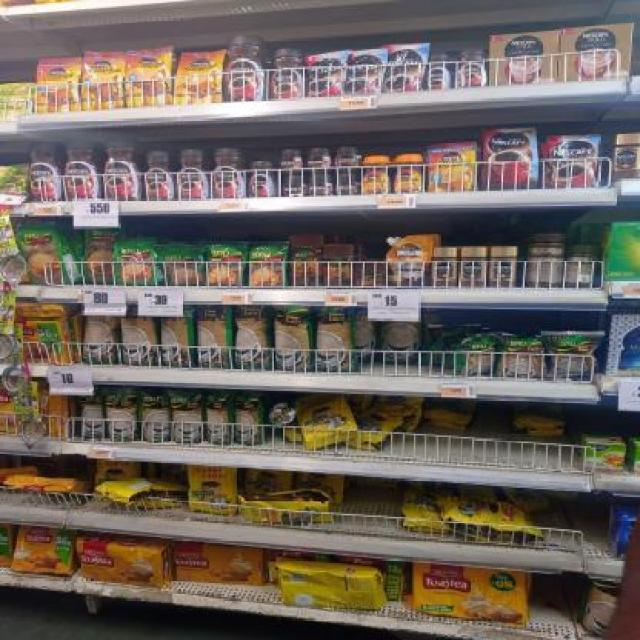Coffee: (486, 129, 537, 188), (544, 136, 594, 187), (175, 52, 222, 105), (126, 51, 171, 106), (225, 36, 263, 101), (103, 137, 142, 200), (80, 54, 123, 109), (37, 59, 81, 112), (63, 138, 100, 200), (428, 145, 474, 190), (30, 142, 62, 201), (306, 52, 346, 97), (347, 49, 385, 94), (386, 44, 423, 90), (145, 150, 177, 200), (177, 148, 208, 198), (212, 149, 243, 197), (272, 49, 302, 97), (456, 50, 487, 88), (393, 156, 424, 193), (614, 134, 640, 178), (361, 156, 390, 193), (423, 54, 451, 90), (432, 248, 458, 286), (489, 248, 514, 286), (249, 160, 273, 197), (462, 248, 484, 286), (306, 148, 331, 169), (282, 175, 306, 196), (280, 148, 302, 170), (309, 174, 331, 195), (335, 173, 356, 194), (335, 148, 357, 166)
